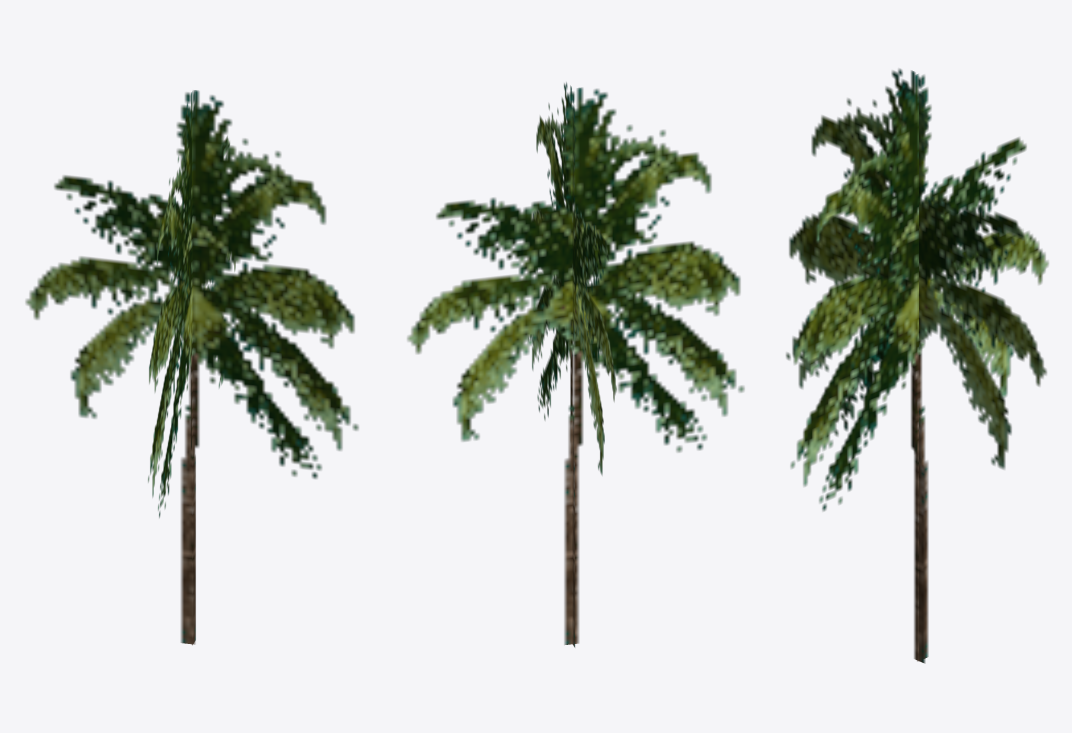
Rendered from tree034.glb.
The picture shows the model from 3 angles, left to right: view 1: azimuth 30°, elevation 25°; view 2: azimuth 150°, elevation 25°; view 3: azimuth 270°, elevation 25°; orthographic projection. The views are drawn at different scales.
Parts seen in each view (by area): view 1: tree034; view 2: tree034; view 3: tree034.
Boxes of the visible parts, x1,y1,x2,y2 form: tree034: (25, 90, 358, 645); tree034: (407, 82, 744, 647); tree034: (786, 68, 1048, 663).
Size of the model in its own units: 2.14 by 5.09 by 2.14.
Materials: 1 (1 with a texture image).
